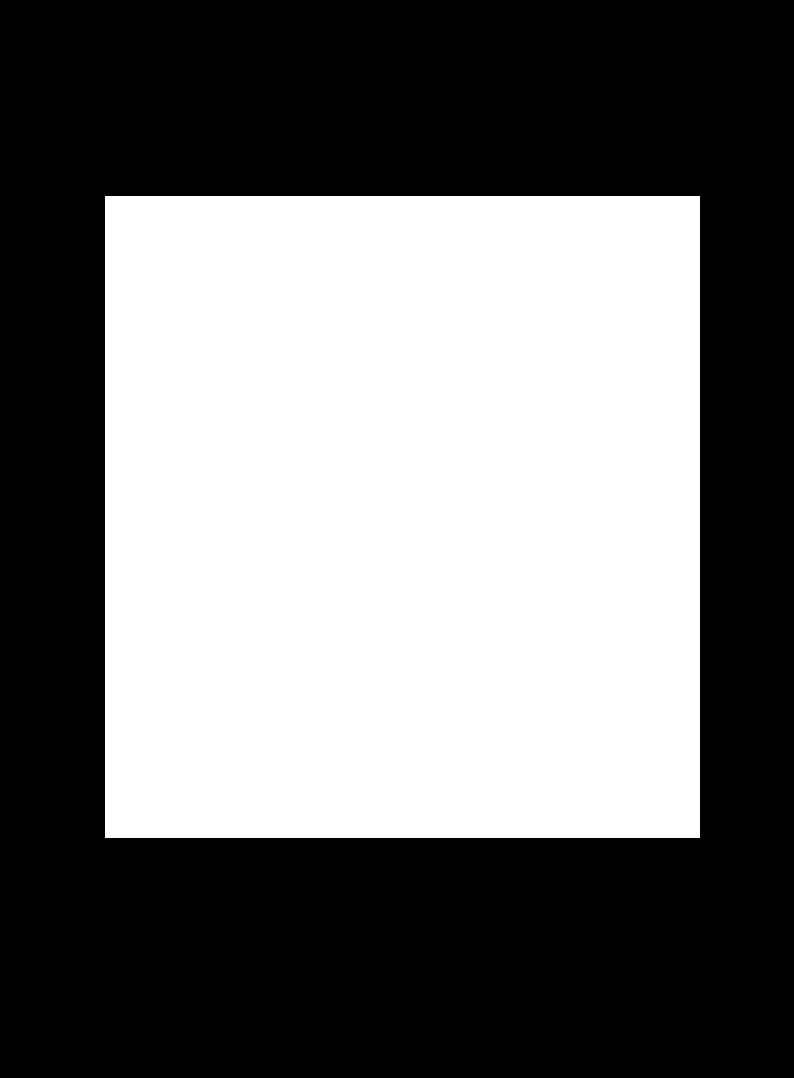table: (105, 196, 699, 837)
